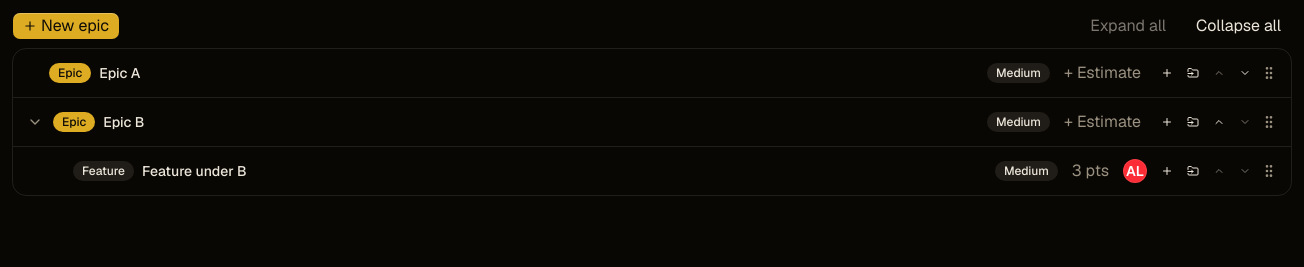
Test case: BacklogTree › reverts an inline estimate edit when the save fails
Click the button "3 pts" at (1090, 171), box left=1066, top=157, right=1115, bottom=185
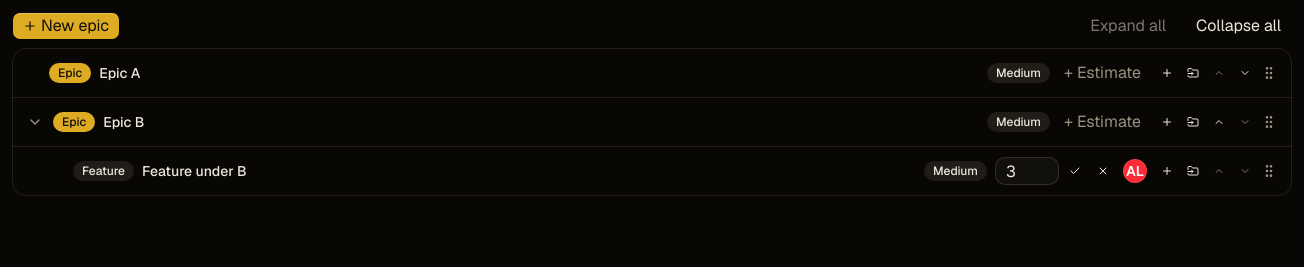
Replace the text in the number field named "Story points" with "8" at (1027, 171), box left=995, top=157, right=1059, bottom=185
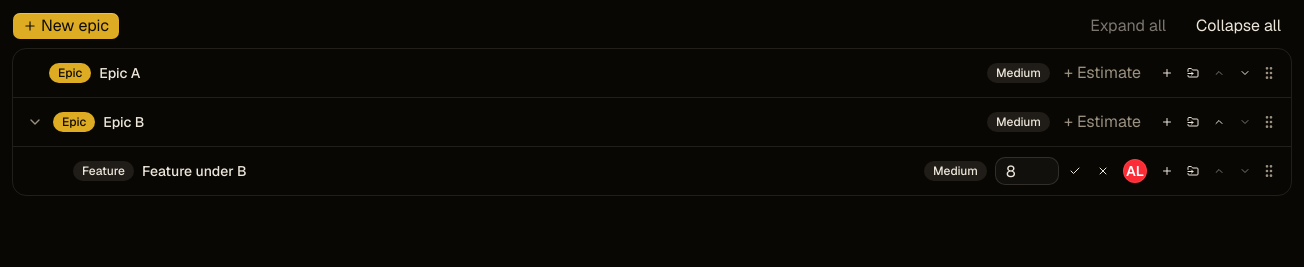
Click the button named "Save estimate" at (1075, 171), box left=1063, top=159, right=1087, bottom=183
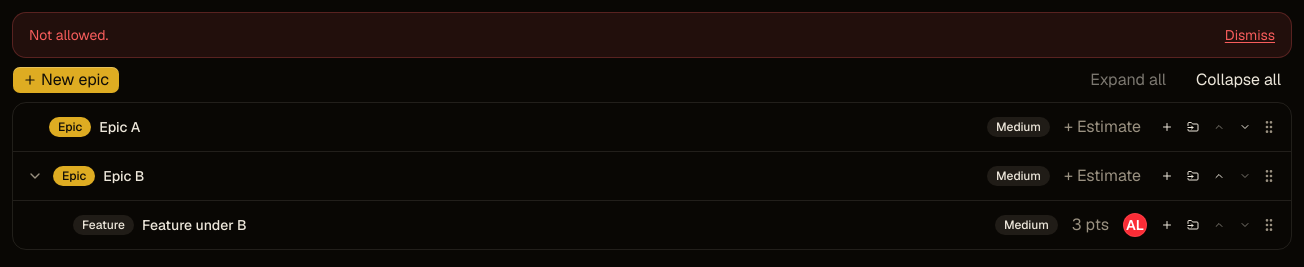
expect the message "Not allowed. Dismiss" is shown: met, box left=12, top=12, right=1292, bottom=58
expect the button "3 pts" is shown: met, box left=1066, top=211, right=1115, bottom=239
